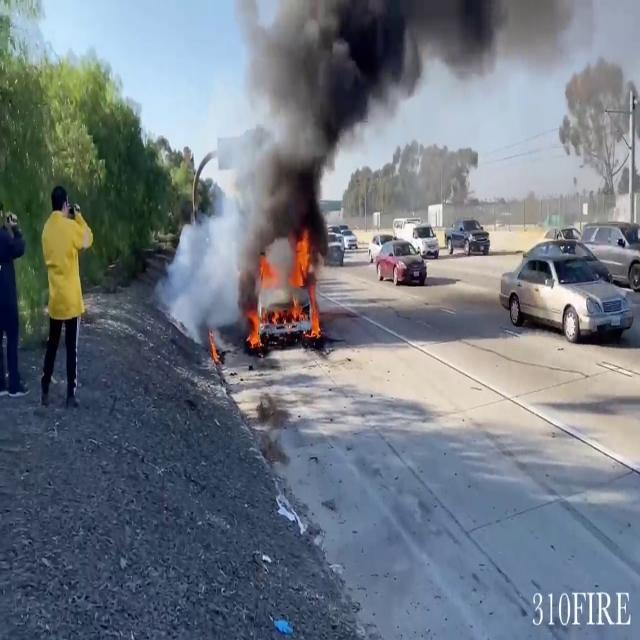Fire: (238, 225, 322, 360)
Smoke: (188, 0, 503, 251)
